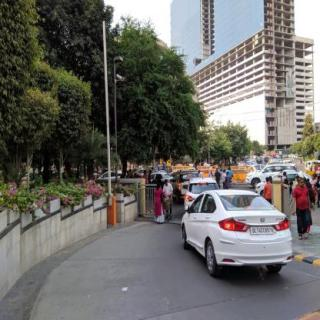Normal_vehicle: (182, 192, 291, 276)
